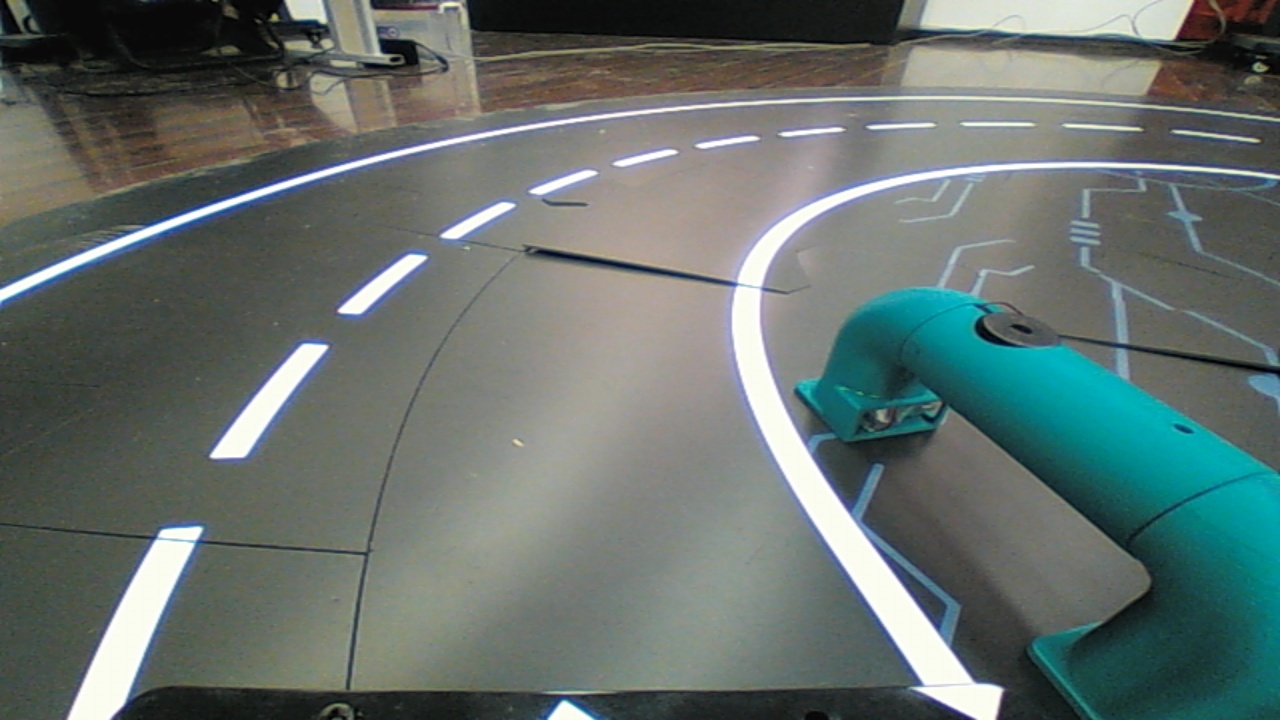Pedestrian crossing: (803, 251, 1264, 696)
